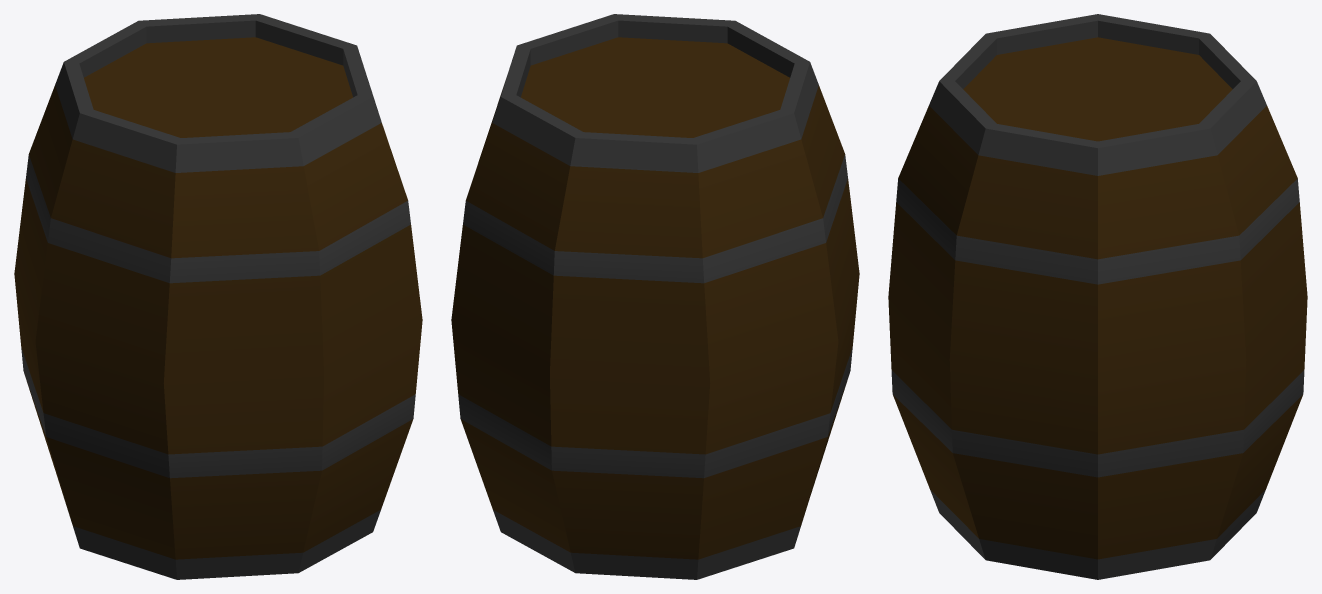
The model's file is Barrel.fbx.
3 renders of one model, left to right at view 1: azimuth 30°, elevation 25°; view 2: azimuth 150°, elevation 25°; view 3: azimuth 270°, elevation 25°, orthographic.
Parts seen in each view (by area): view 1: Cylinder; view 2: Cylinder; view 3: Cylinder.
Part boxes in pixels (<box>): Cylinder: <box>14,14,422,579</box>; Cylinder: <box>451,14,859,579</box>; Cylinder: <box>888,14,1307,579</box>.
Bounding box in the file's own units: 185 × 210 × 185.
